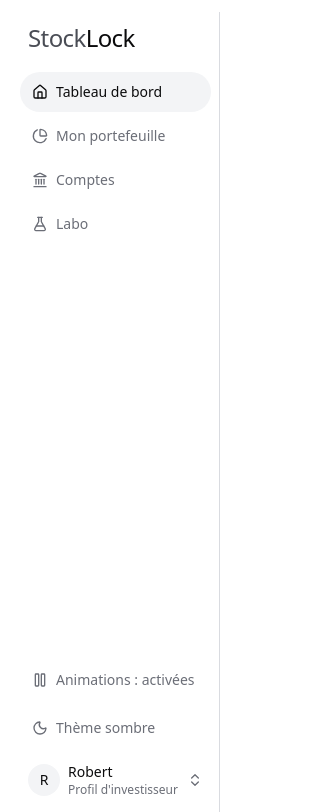
Test case: AppSidebar › "Changer de profil" forgets the profile and opens the picker
The image size is (332, 812).
Click the button with aria-label "Profil actif : Robert" at (116,780), box [20,756,211,804]
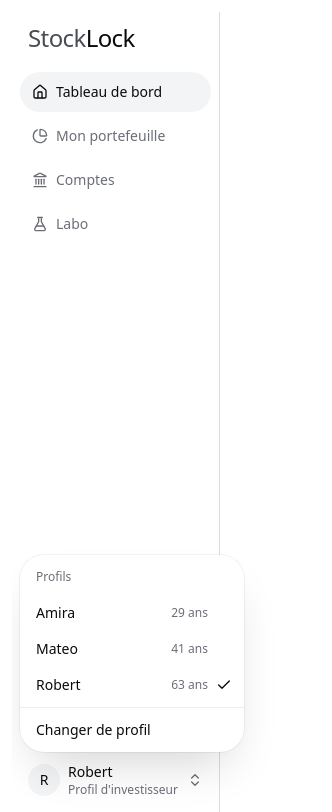
Click the menu item "Changer de profil" at (93,730), box [36,720,151,739]
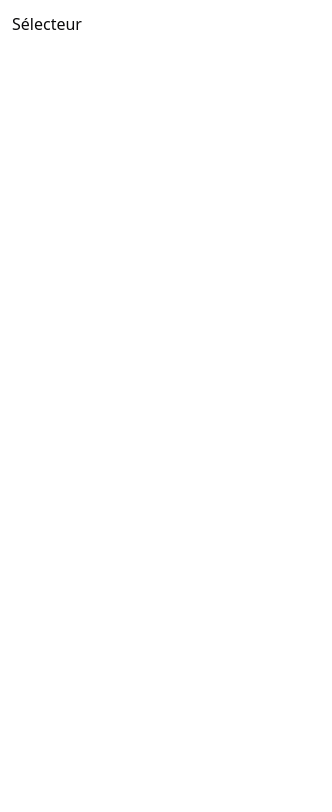
Expected: the text "Sélecteur" is shown, [12,13,82,35]
